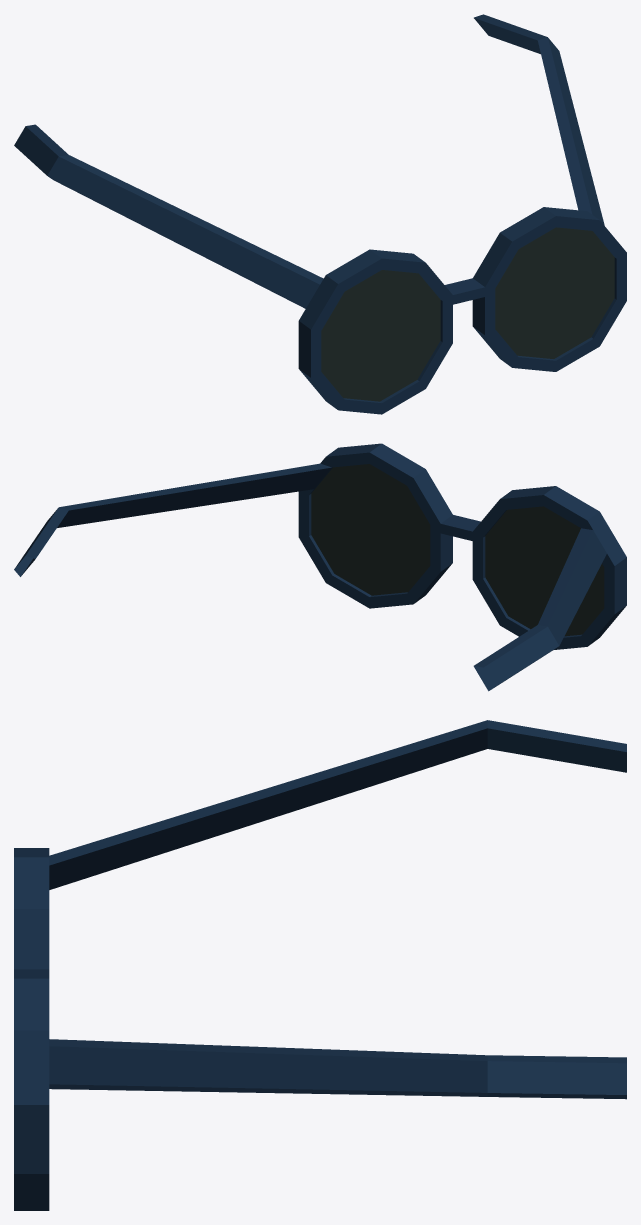
Rendered from Beach_Sunglasses.fbx.
3 views of the same model, one above another, from view 1: azimuth 30°, elevation 25°; view 2: azimuth 150°, elevation 25°; view 3: azimuth 270°, elevation 25° (orthographic). The views are drawn at different scales.
Parts seen in each view (by area): view 1: Beachgoer_F_Sunglasses; view 2: Beachgoer_F_Sunglasses; view 3: Beachgoer_F_Sunglasses.
Part boxes in pixels (x1,y1,x2,y2): Beachgoer_F_Sunglasses: (14,14,626,414); Beachgoer_F_Sunglasses: (14,443,626,691); Beachgoer_F_Sunglasses: (14,720,626,1210).
Bounding box in the file's own units: 18.1 × 5.92 × 13.13.
